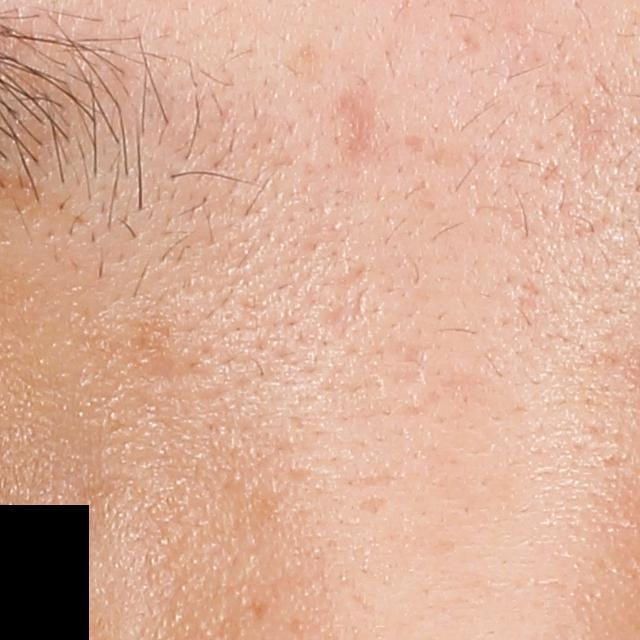atrophic_scar: (317, 260, 373, 336), (332, 89, 379, 169), (535, 150, 566, 192), (451, 29, 481, 60), (399, 133, 427, 152)
